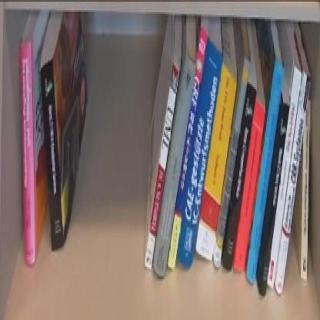book-spine: (175, 37, 225, 267), (166, 24, 209, 270), (152, 52, 198, 278), (244, 57, 286, 285), (194, 62, 240, 263), (264, 65, 303, 288), (274, 69, 312, 294), (213, 54, 252, 268), (143, 62, 181, 272), (221, 81, 258, 271), (258, 99, 290, 296), (234, 98, 267, 272), (40, 59, 64, 251), (20, 38, 36, 265), (300, 99, 310, 281)
